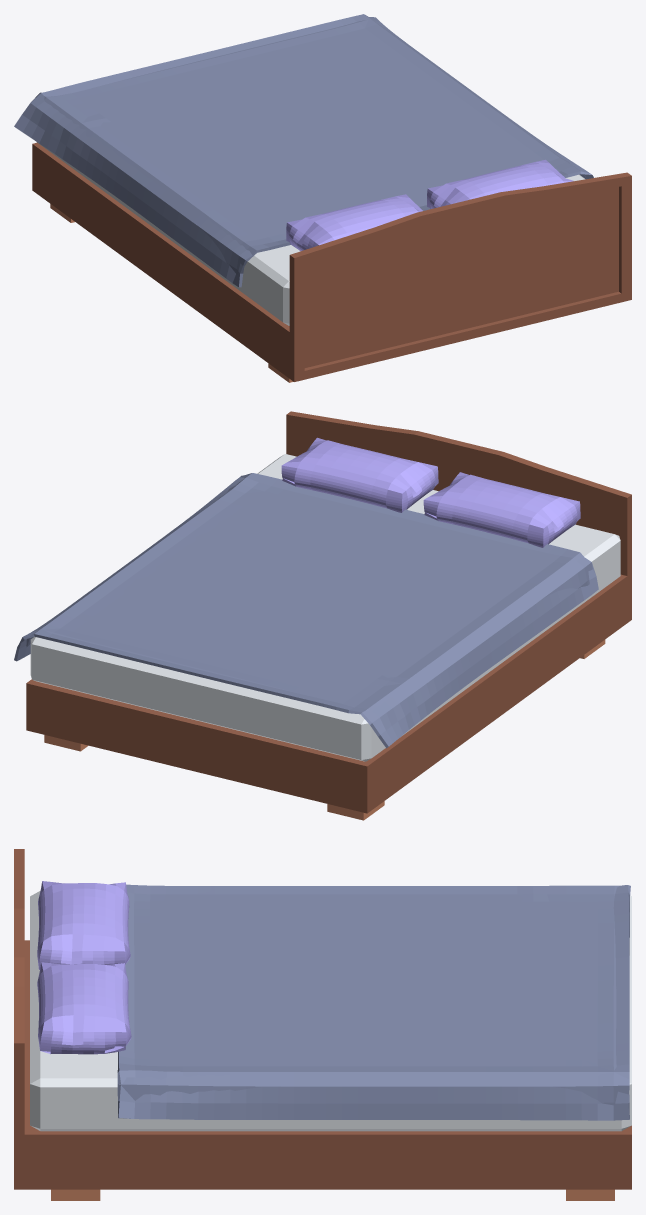
Rendered from Bed.fbx.
3 renders of one model, top to bottom at view 1: azimuth 30°, elevation 25°; view 2: azimuth 150°, elevation 25°; view 3: azimuth 270°, elevation 25°, orthographic. The views are drawn at different scales.
Parts seen in each view (by area): view 1: Plane.015, Plane.008, Plane.009, Cube.007, Cube.008; view 2: Plane.015, Plane.008, Plane.009, Cube.008, Cube.007; view 3: Plane.015, Plane.008, Plane.009, Cube.008, Cube.007.
Boxes of the visible parts, left/top/right/bottom form: Plane.015: left=14, top=14, right=593, bottom=287; Plane.008: left=32, top=142, right=631, bottom=382; Plane.009: left=37, top=142, right=585, bottom=325; Cube.007: left=286, top=194, right=422, bottom=251; Cube.008: left=427, top=159, right=573, bottom=209; Plane.015: left=14, top=473, right=598, bottom=748; Plane.008: left=26, top=411, right=631, bottom=820; Plane.009: left=30, top=454, right=620, bottom=761; Cube.008: left=281, top=437, right=438, bottom=512; Cube.007: left=423, top=472, right=580, bottom=547; Plane.015: left=117, top=884, right=630, bottom=1120; Plane.008: left=14, top=849, right=631, bottom=1200; Plane.009: left=30, top=890, right=631, bottom=1131; Cube.008: left=37, top=962, right=131, bottom=1054; Cube.007: left=37, top=881, right=130, bottom=969.
Bounding box in the file's own units: 3.97 × 4.81 × 1.52.
